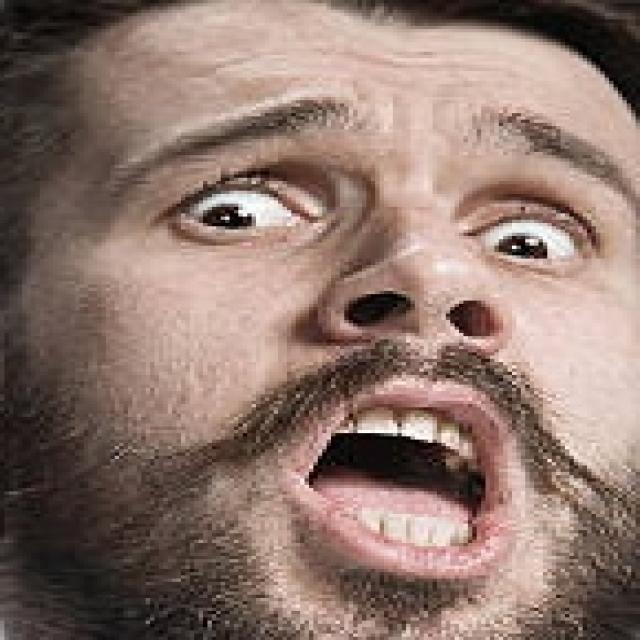Anxiety: (15, 0, 636, 637)
